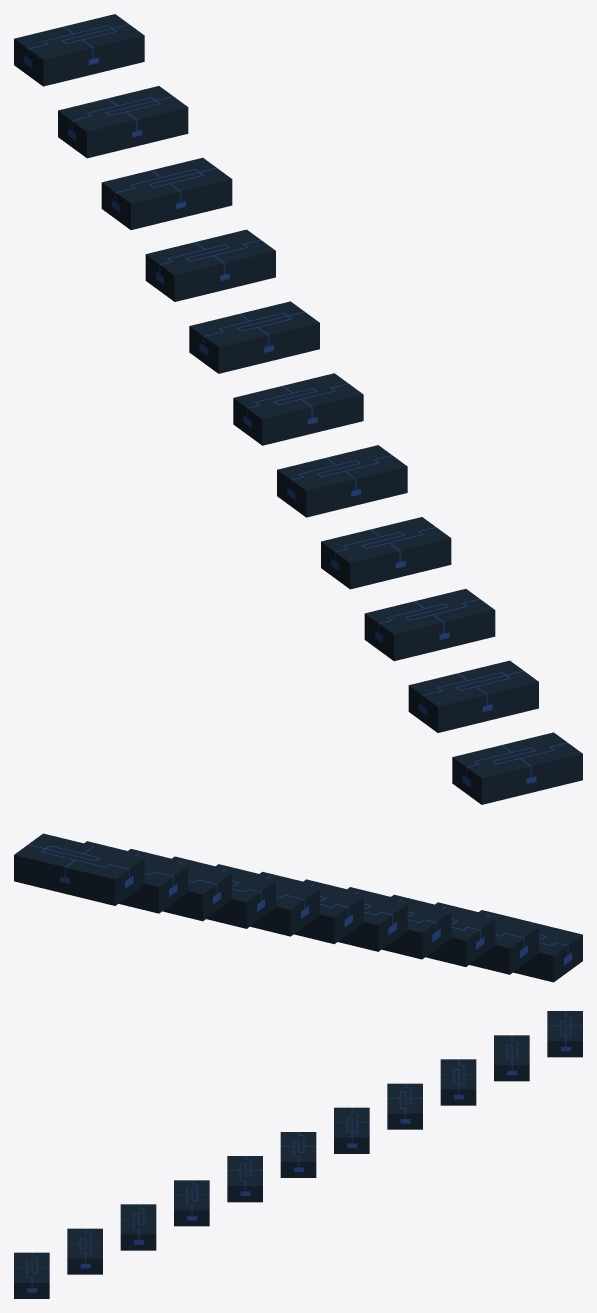
Rendered from Stairs.fbx.
The picture shows the model from 3 angles, top to bottom: view 1: azimuth 30°, elevation 25°; view 2: azimuth 150°, elevation 25°; view 3: azimuth 270°, elevation 25°; orthographic projection. The views are drawn at different scales.
Parts seen in each view (by area): view 1: Model; view 2: Model; view 3: Model.
Boxes of the visible parts, x1,y1,x2,y2 form: Model: [14, 14, 582, 804]; Model: [14, 833, 582, 982]; Model: [14, 1011, 582, 1298].
Size of what is drawn, in the model's own units: 400 by 1600 by 3200.
1 material, 1 textured.
